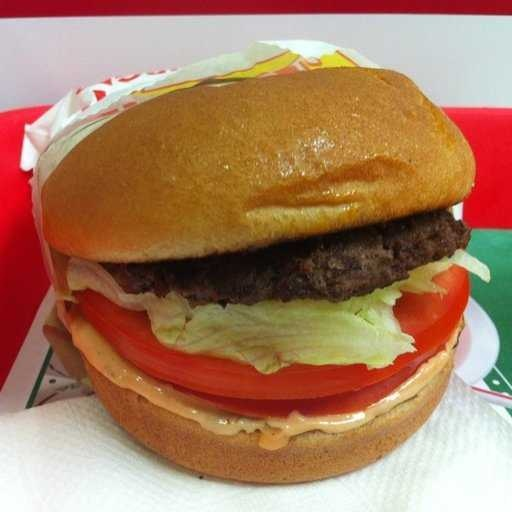hamburger: (44, 64, 510, 473)
